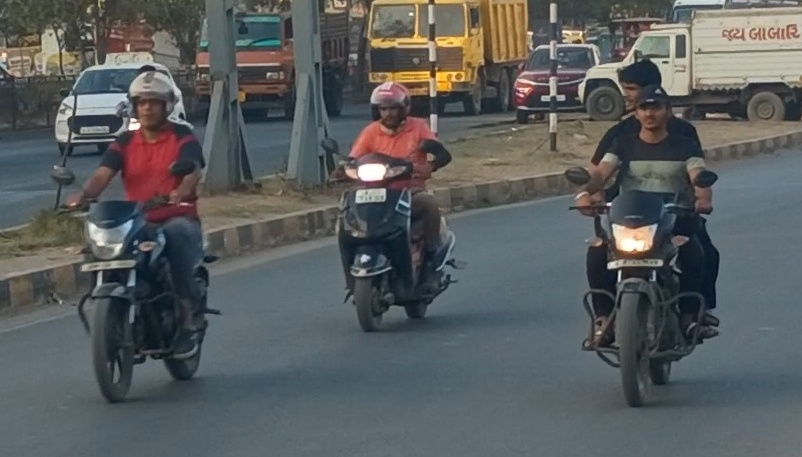BikeWithRider: (49, 61, 225, 405), (562, 55, 729, 407), (317, 76, 473, 337)
Helmet: (123, 65, 185, 129), (367, 80, 415, 129)
NoHelmet: (630, 83, 678, 137), (616, 57, 666, 108)
